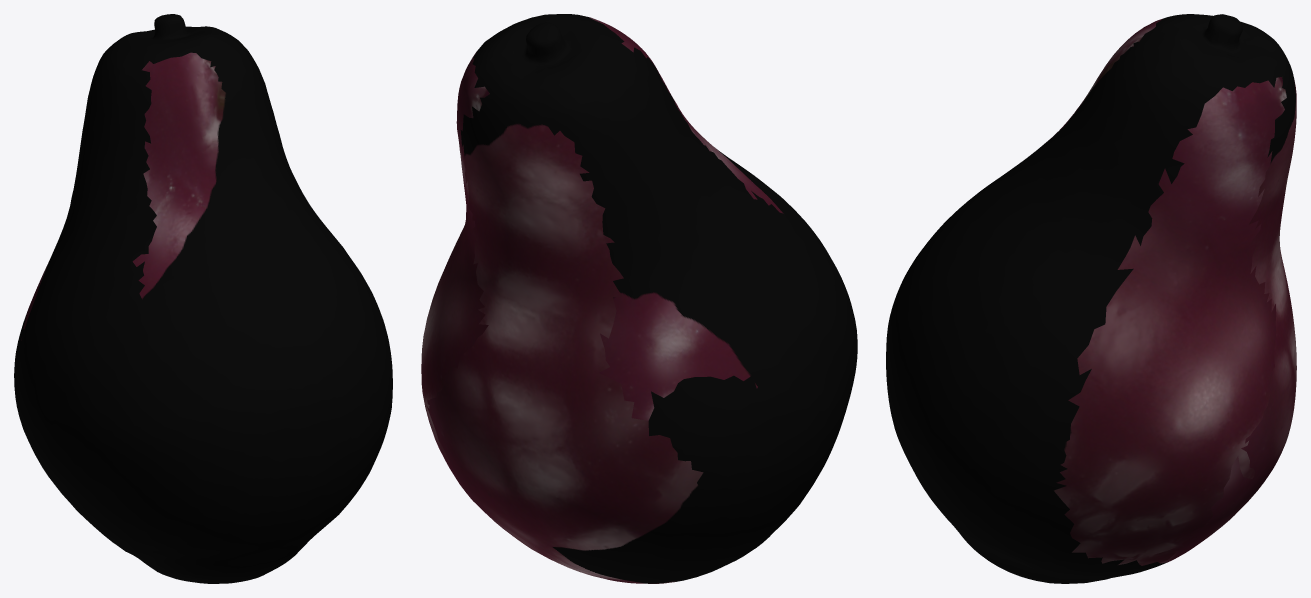
3 renders of one model, left to right at view 1: azimuth 30°, elevation 25°; view 2: azimuth 150°, elevation 25°; view 3: azimuth 270°, elevation 25°, orthographic. The views are drawn at different scales.
Size of the model in its own units: 0.0665 by 0.1005 by 0.0657.
